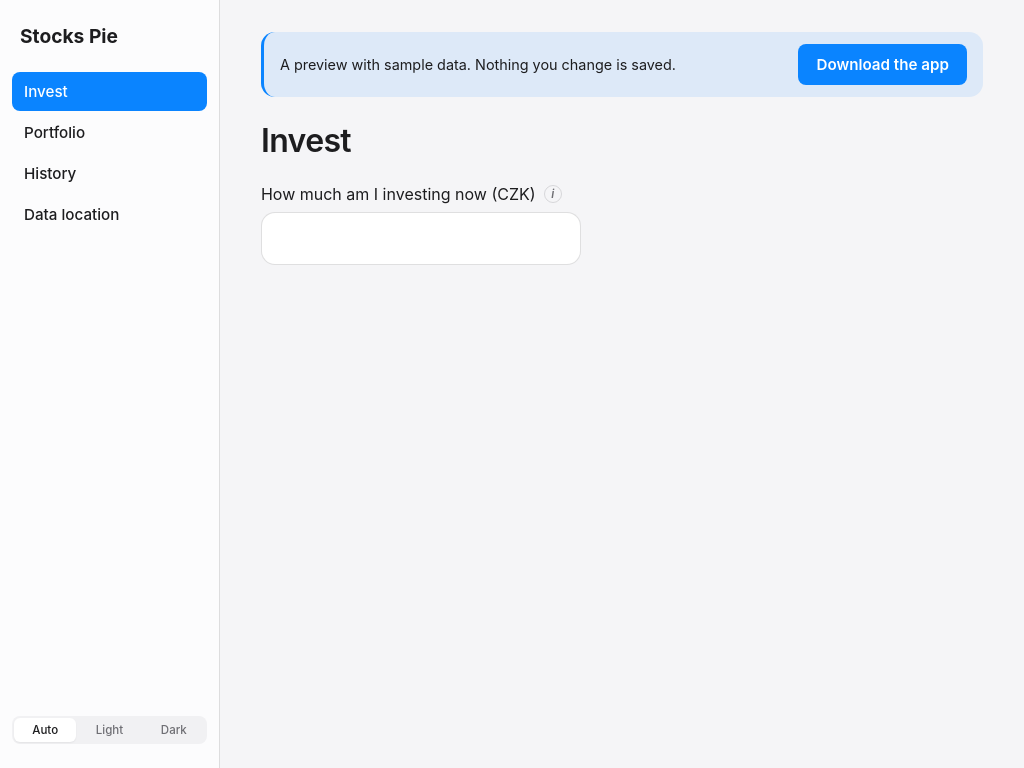
Test case: App › lists a round by ticker rather than by company name
This screenshot has width=1024, height=768.
In the number field labelled "How much am I investing now (CZK)": (421, 239) [261,212,581,265], type "100000"
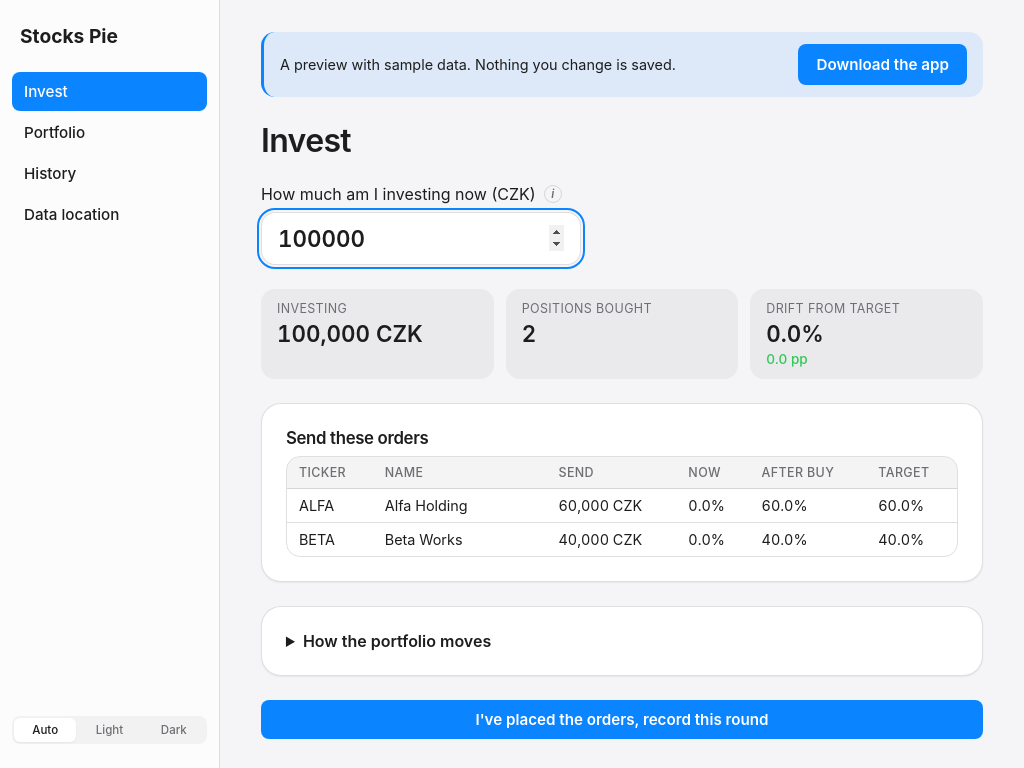
Click the button "I've placed the orders, record this round": (622, 720) [261,700,983,739]
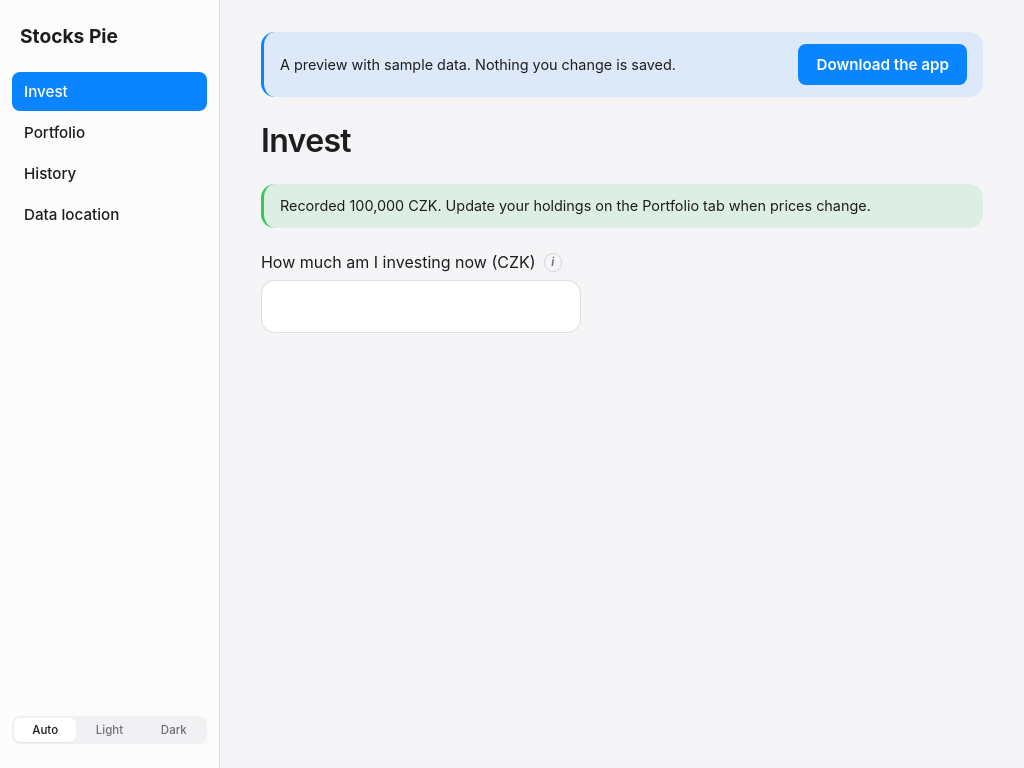
Click the button "History": (110, 174) [12,154,207,193]
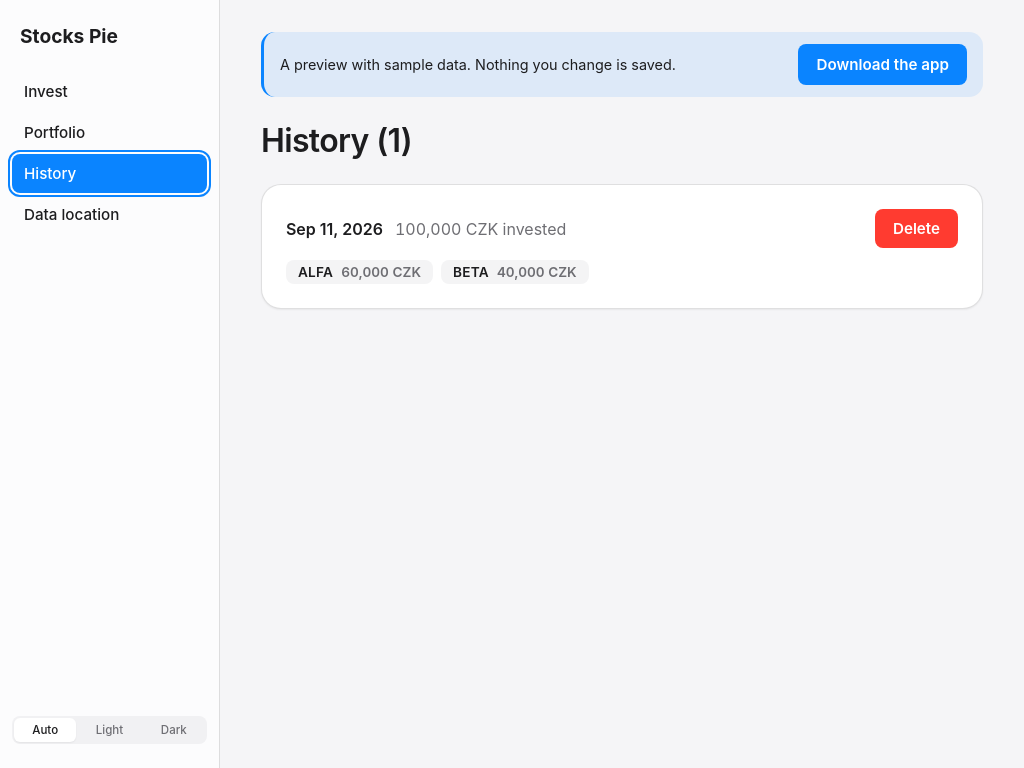
Expected: the text "Alfa Holding" is not shown
Result: the text "ALFA" is shown at [298,264,333,280]
